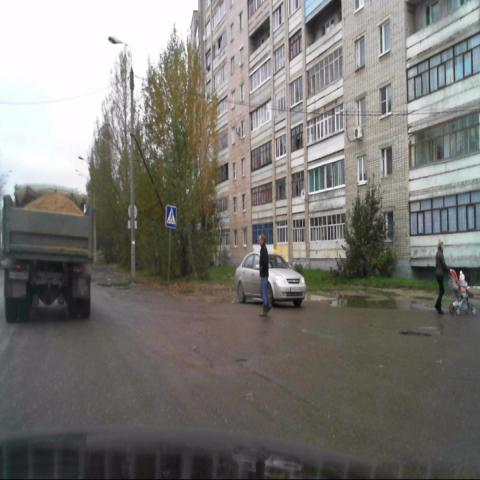5_19_1: (166, 206, 178, 227)
